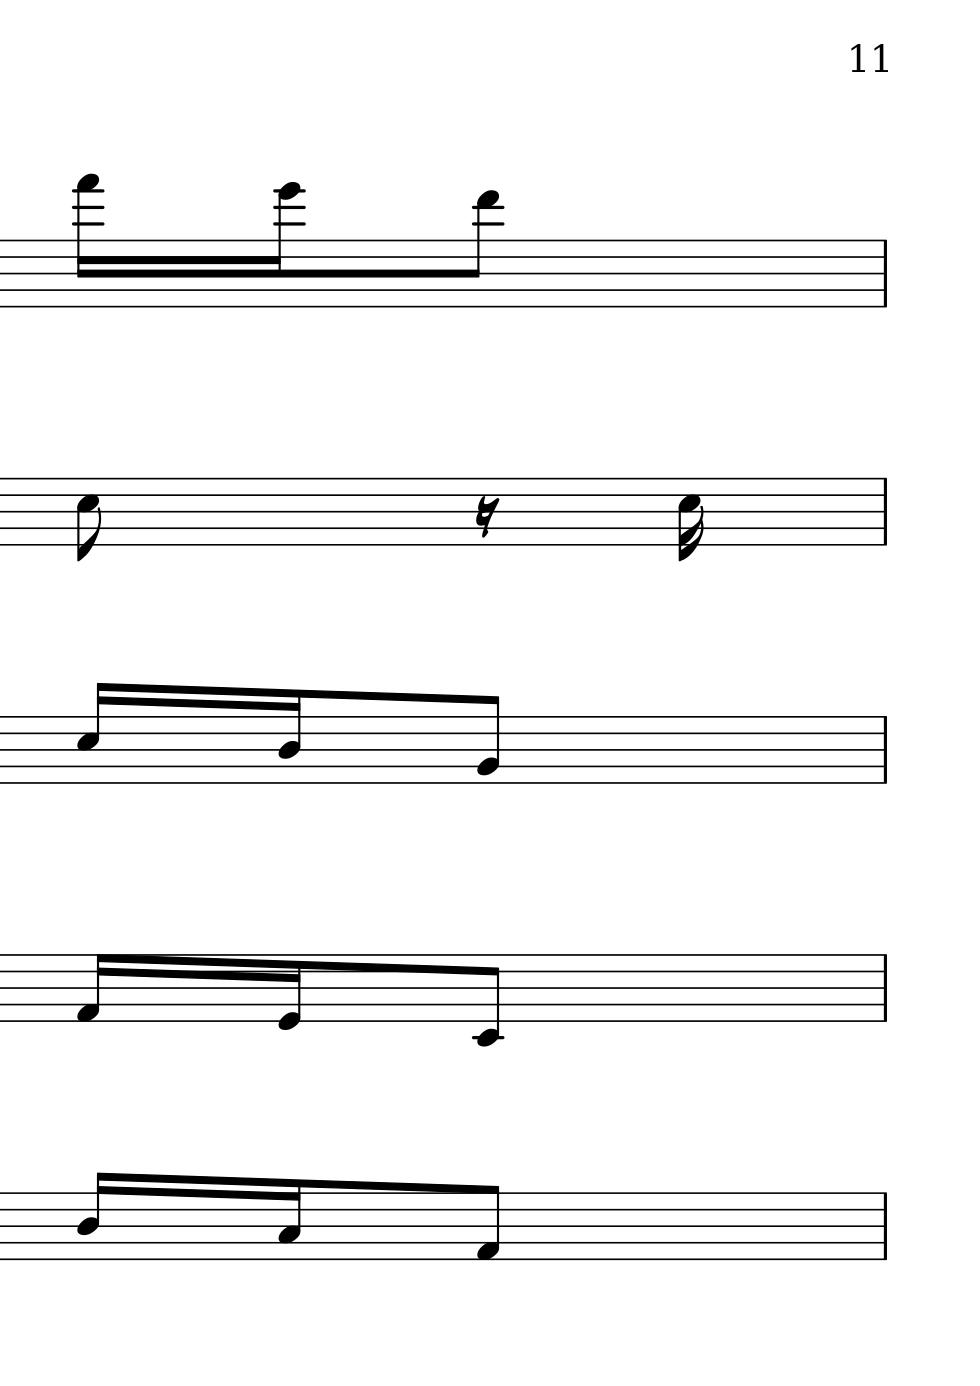1: (870, 40, 893, 78), (848, 40, 867, 76)
16_0: (277, 952, 304, 1032)
16_1: (74, 952, 109, 1024)
16_15: (73, 173, 103, 308)
16_3: (277, 1178, 303, 1261)
16_4: (76, 1171, 109, 1263), (277, 688, 303, 785)
16_5: (75, 679, 109, 786), (676, 476, 705, 564)
8_-2: (473, 951, 504, 1048)
8_1: (474, 1183, 502, 1263)
8_13: (465, 189, 501, 310)
8_14: (264, 181, 302, 312)
8_2: (476, 694, 502, 786)
8_5: (74, 476, 102, 563)
Rests16: (473, 495, 498, 541)
Single_barline: (876, 240, 893, 308), (876, 478, 893, 545), (876, 716, 893, 783), (876, 954, 893, 1021), (876, 1193, 893, 1260)
